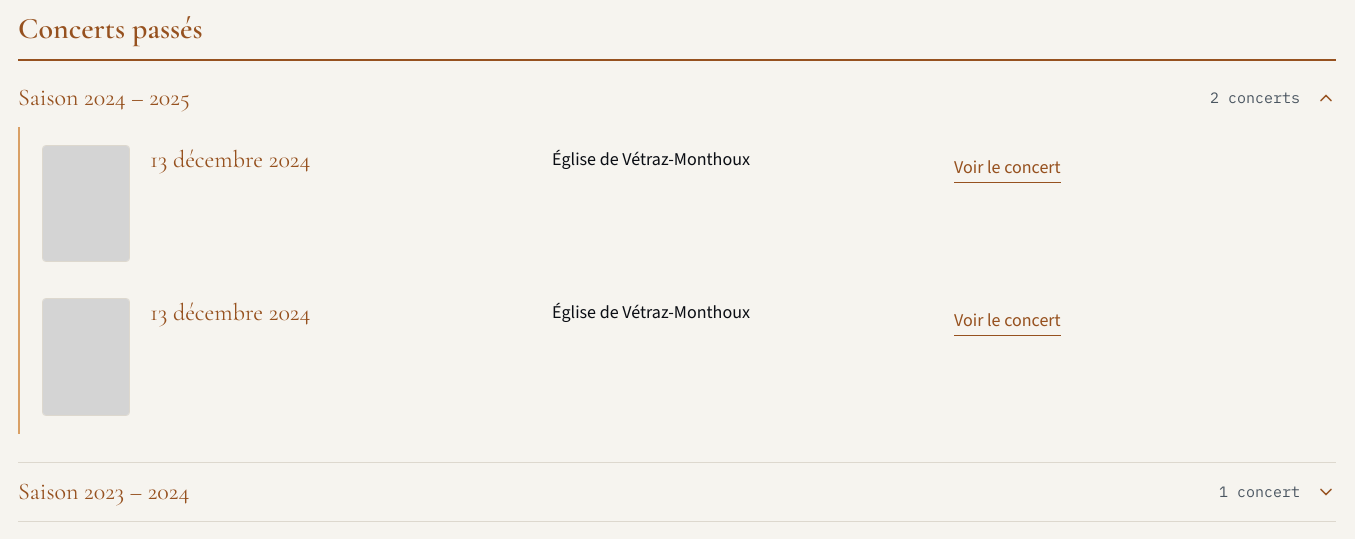
Test case: PastSeasons › should close the open season when its header is pressed again
What coordinates should you click on to do the following:
click the button "Saison 2024 – 2025 2 concerts"
I would click on:
 (51, 98)
Its box is [18,69,1336,127].
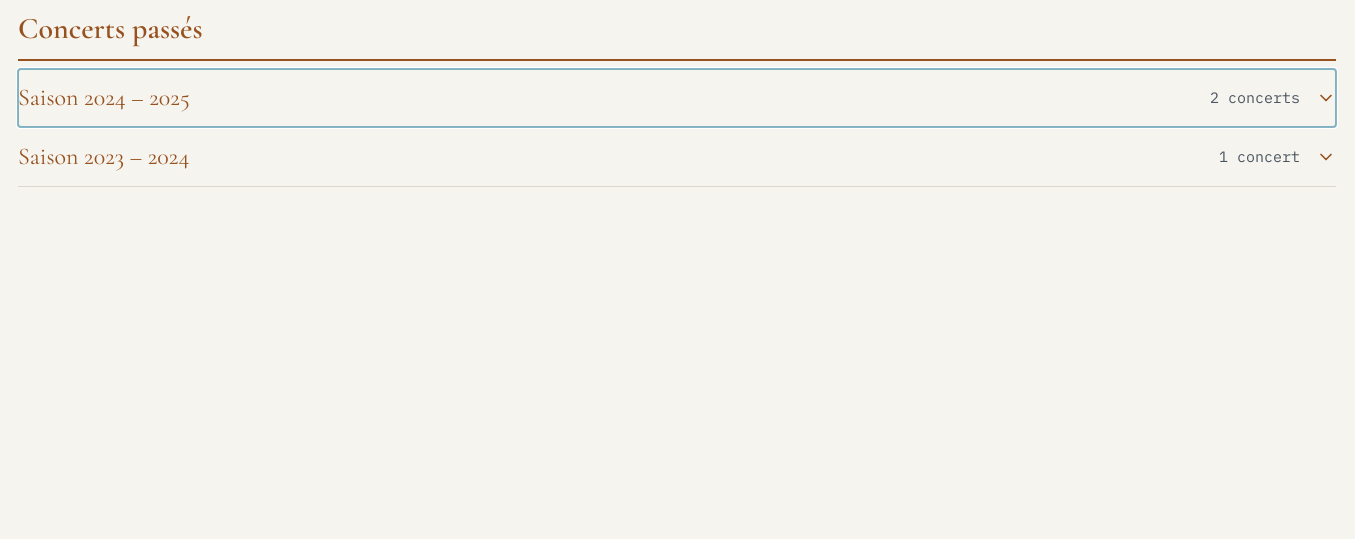
Expected: the button "Saison 2024 – 2025 2 concerts" is collapsed, [18,69,1336,127]
